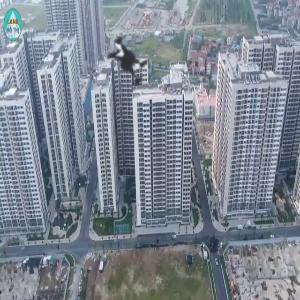drone: (77, 11, 179, 113)
